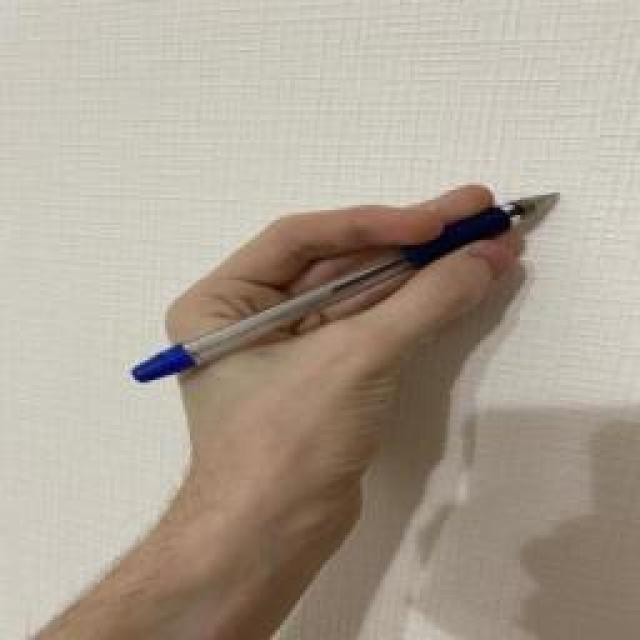pen: (133, 190, 561, 385)
